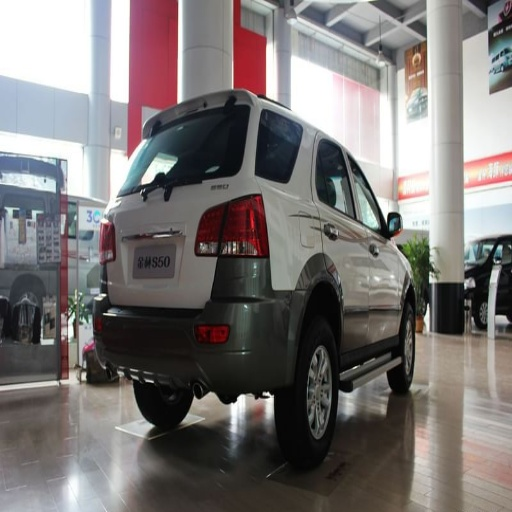back_bumper: (93, 258, 303, 387)
back_right_door: (313, 138, 369, 353)
trunk: (109, 188, 233, 307)
